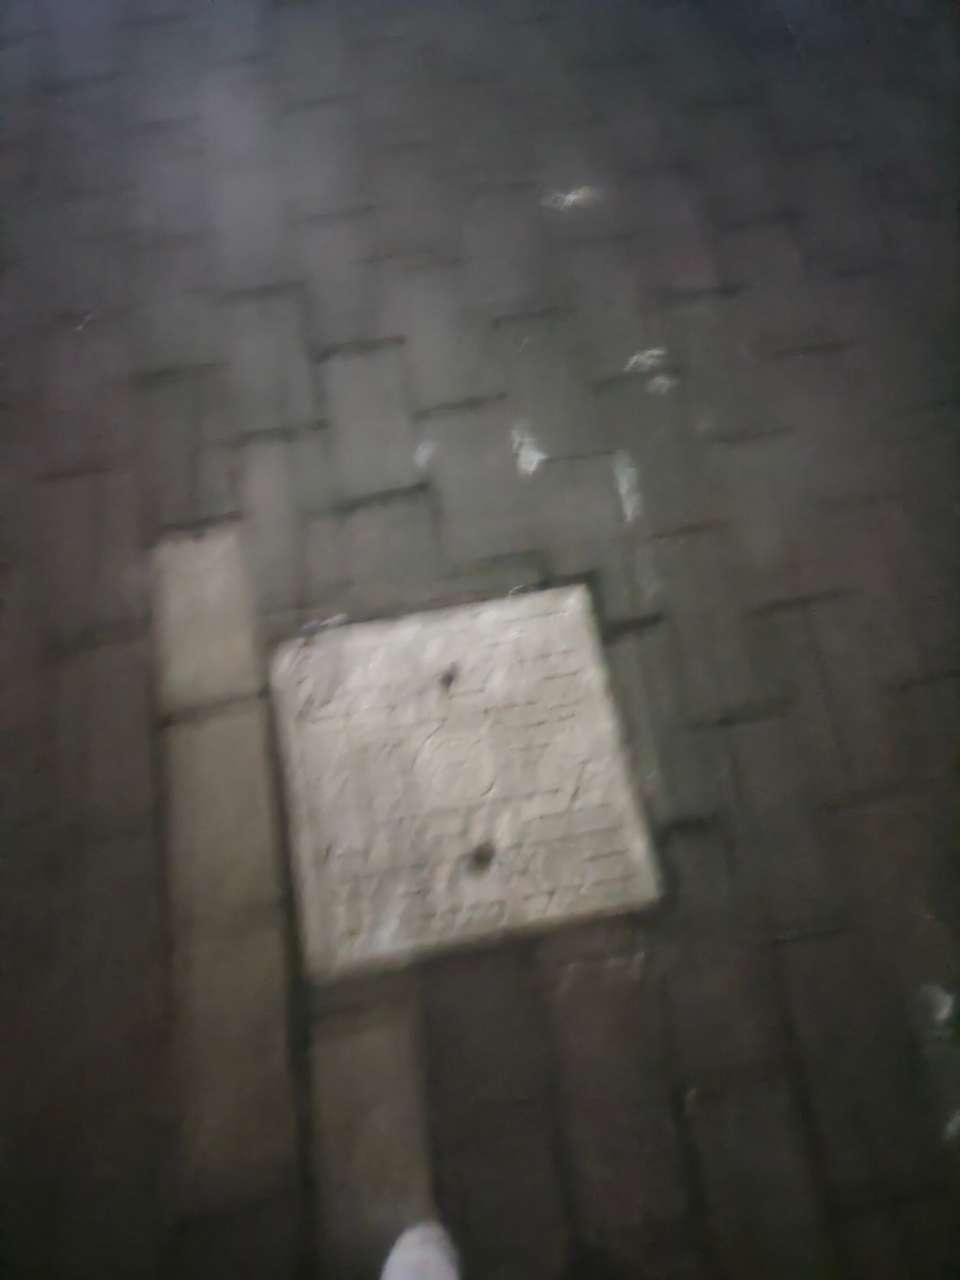wellcover: (234, 577, 690, 981)
